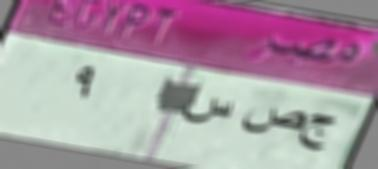9: (68, 64, 103, 102)
jeem: (303, 112, 342, 154)
saad: (240, 108, 304, 134)
seen: (184, 97, 234, 128)
